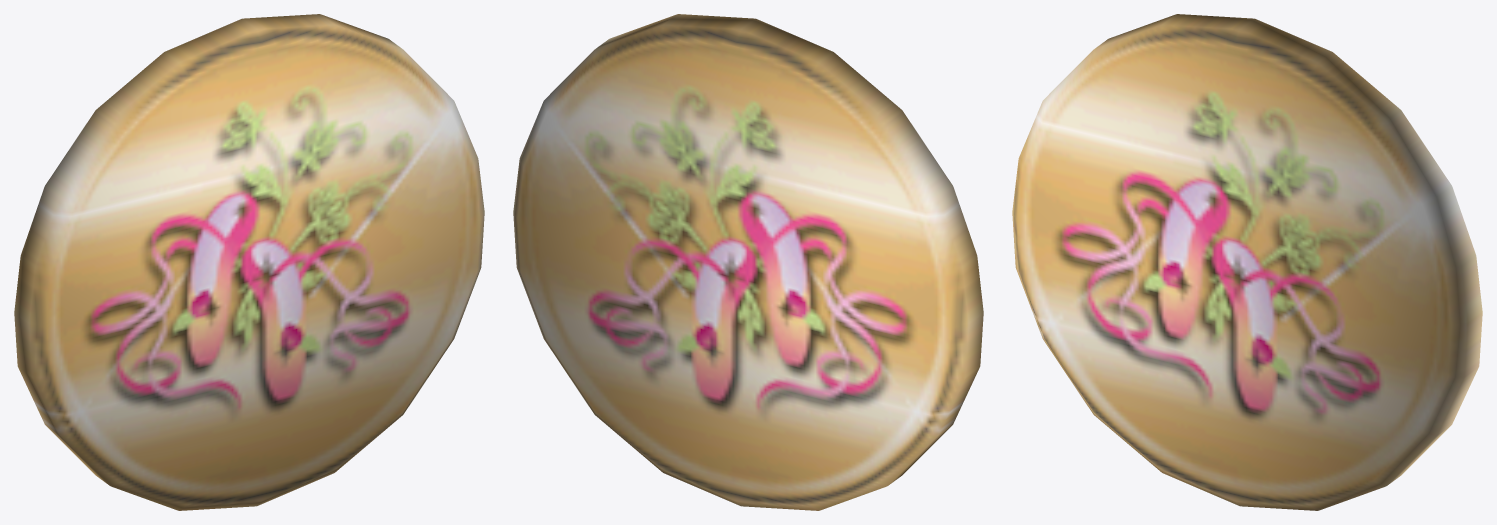
Rendered from copy.ico.obj.
The picture shows the model from 3 angles, left to right: view 1: azimuth 30°, elevation 25°; view 2: azimuth 150°, elevation 25°; view 3: azimuth 330°, elevation 25°; orthographic projection.
Size of the model in its own units: 4.04 by 4.04 by 0.4128.
Materials: 1 (1 with a texture image).
